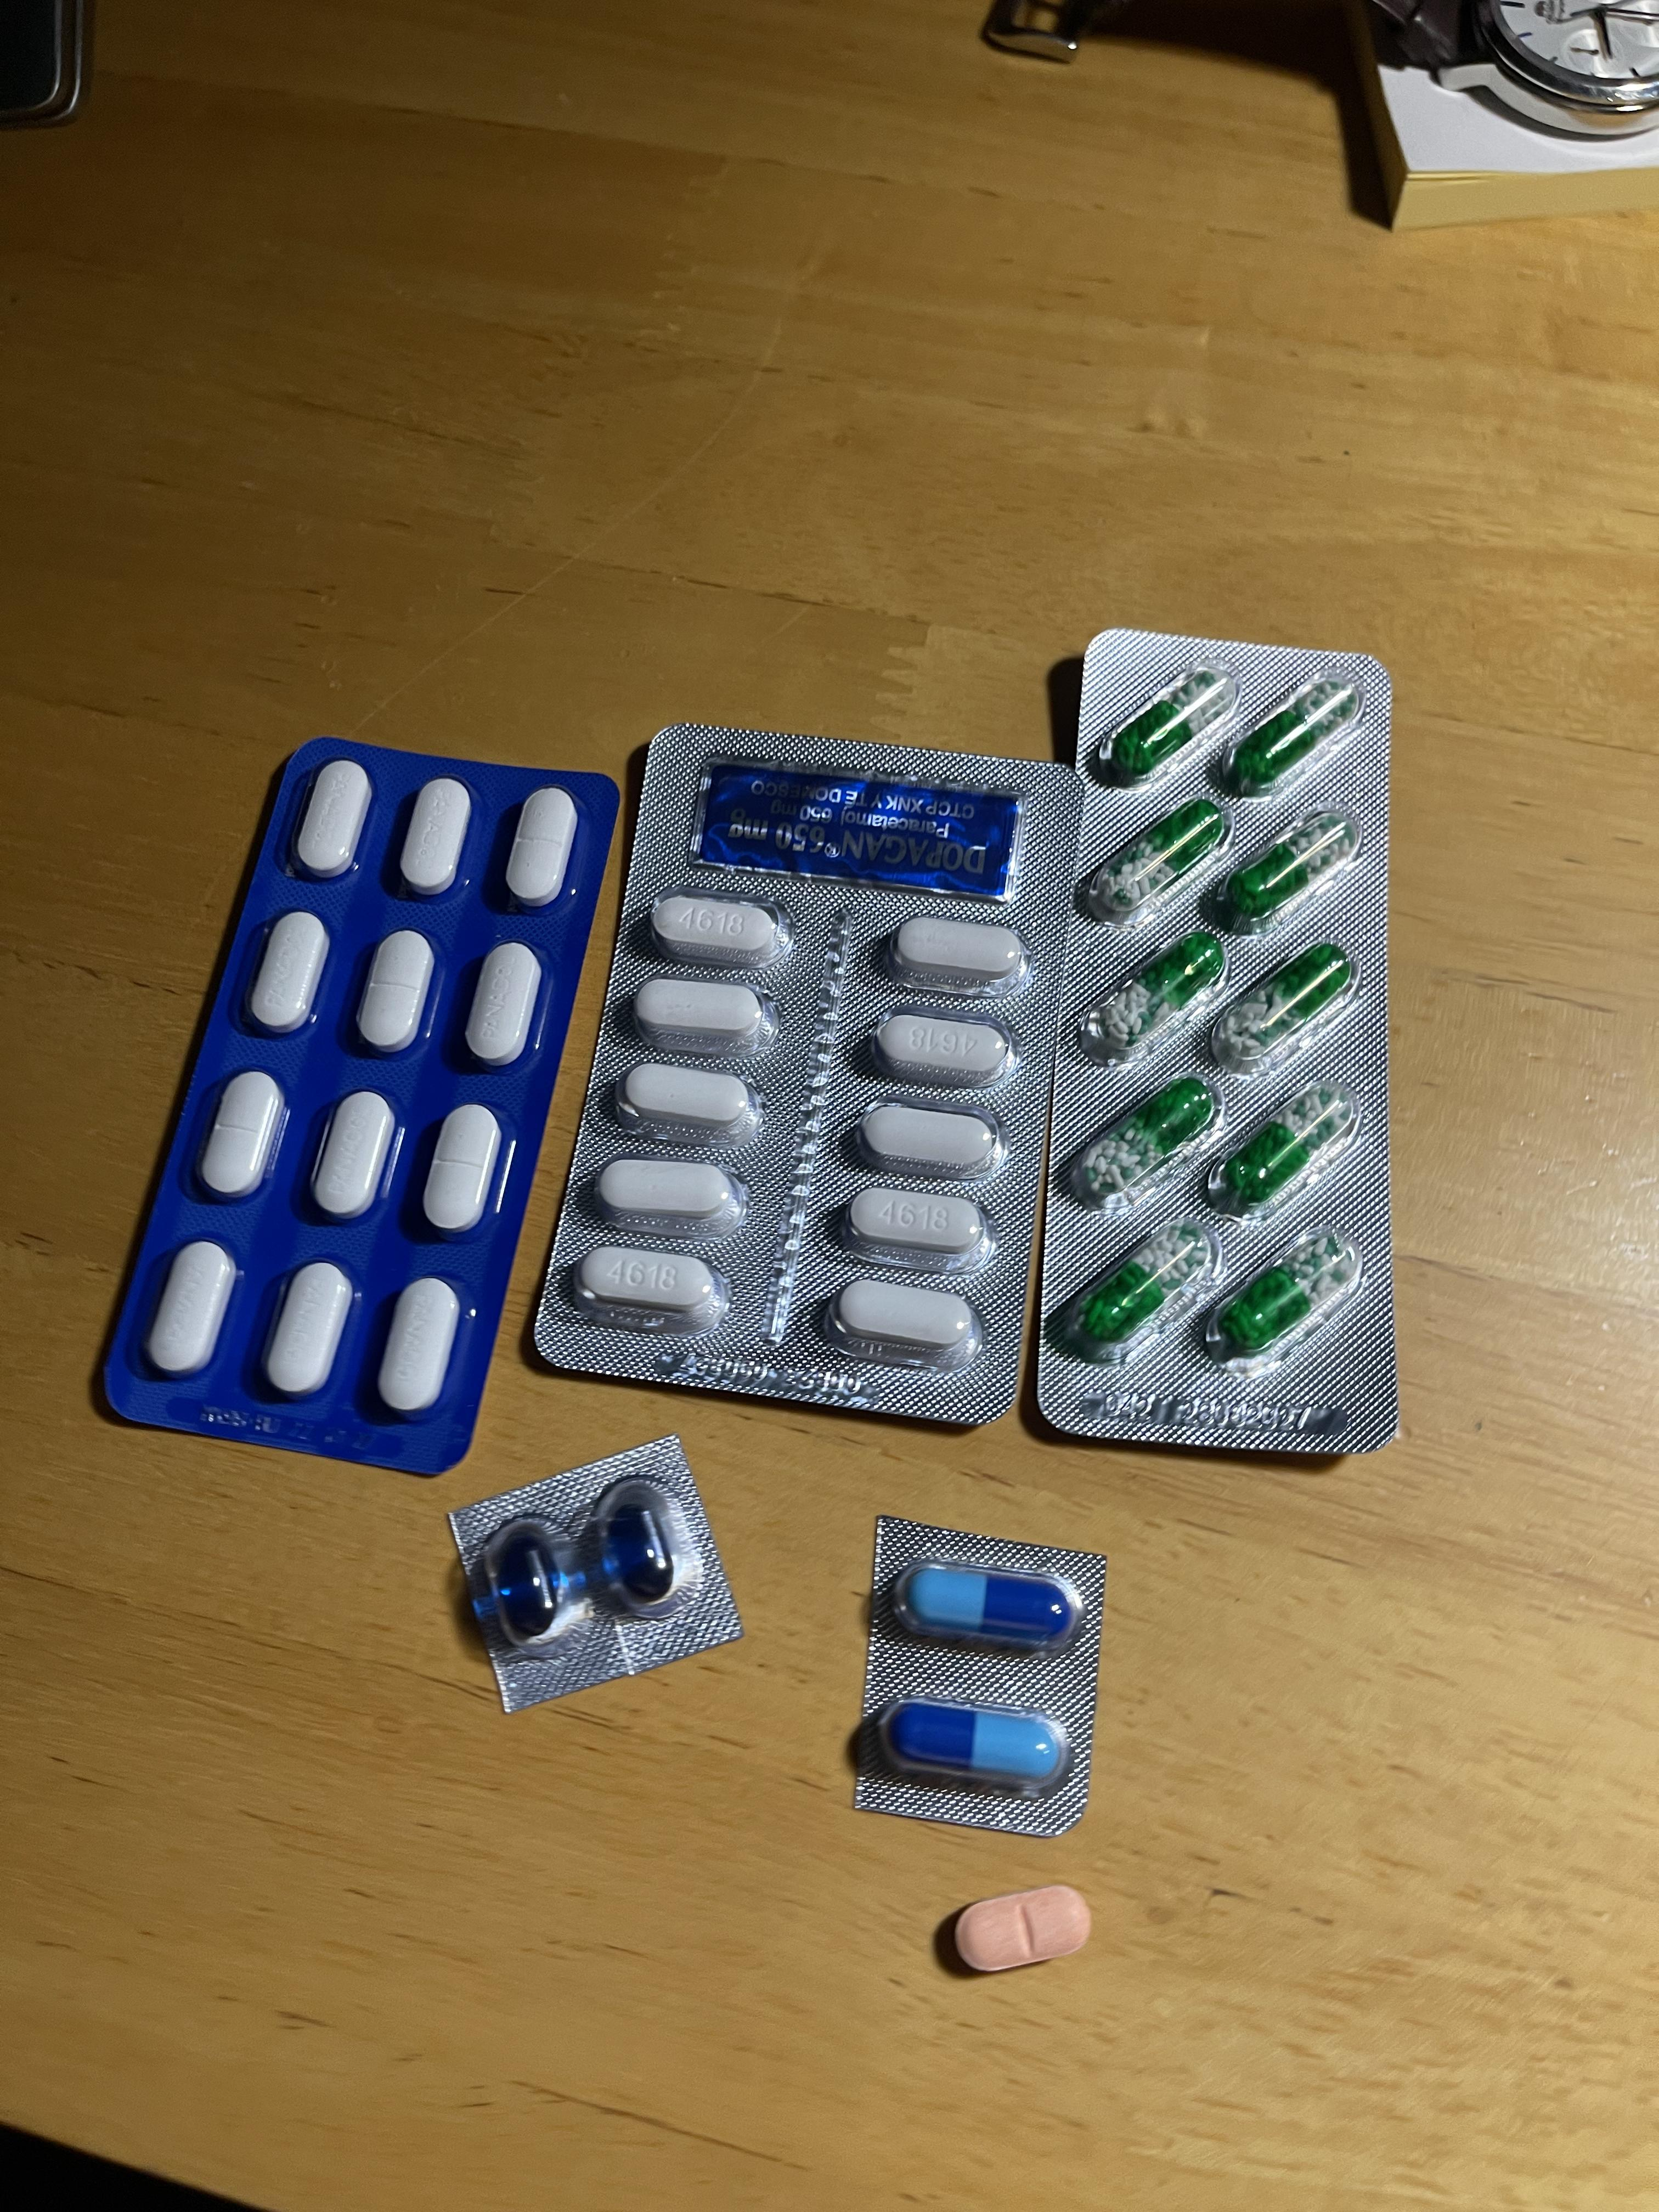Lincomyxin_500mg: (490, 1531, 565, 1635), (601, 1500, 676, 1601)
Loratadine_10mg: (950, 1885, 1093, 1972)
Paracetamol_350mg: (261, 1261, 354, 1400), (145, 1238, 235, 1378), (375, 1277, 462, 1416), (197, 1071, 286, 1202), (310, 1090, 397, 1221), (422, 1103, 504, 1235), (356, 930, 437, 1054), (247, 911, 329, 1035), (464, 942, 542, 1068), (293, 759, 371, 880), (397, 777, 474, 897), (505, 789, 579, 906)
Paracetamol_500mg: (831, 1277, 981, 1364), (573, 1242, 723, 1324), (843, 1184, 990, 1263), (852, 1103, 1002, 1176), (882, 914, 1028, 988), (647, 894, 789, 967), (864, 1012, 1012, 1082), (596, 1157, 742, 1224), (631, 977, 769, 1047), (620, 1061, 756, 1130)
Paracetamol_650mg: (1206, 1224, 1364, 1367), (1065, 1216, 1220, 1360), (1206, 1075, 1359, 1217), (1066, 1073, 1220, 1211), (1209, 941, 1358, 1075), (1079, 923, 1220, 1059), (1094, 662, 1241, 789), (1079, 798, 1225, 925), (1222, 669, 1364, 798), (1215, 805, 1359, 932)
pill: (887, 1702, 1066, 1785), (904, 1568, 1073, 1644)
